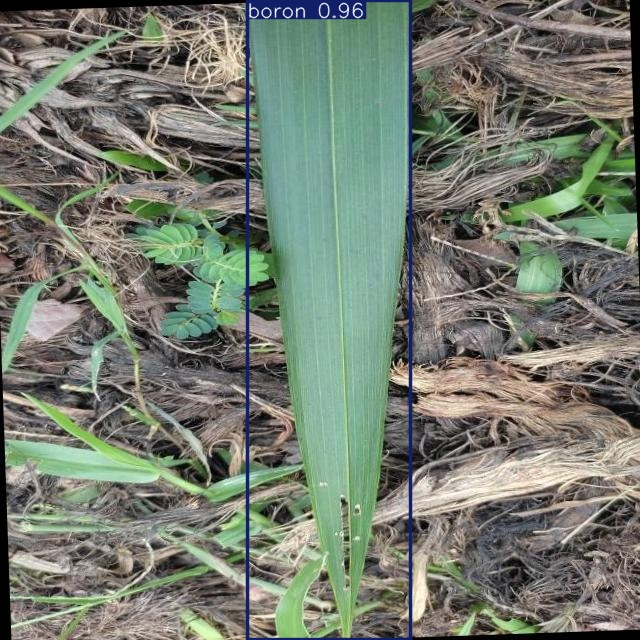nitrogen: (247, 1, 411, 640)
